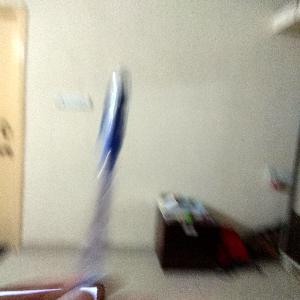pen: (75, 59, 140, 286)
